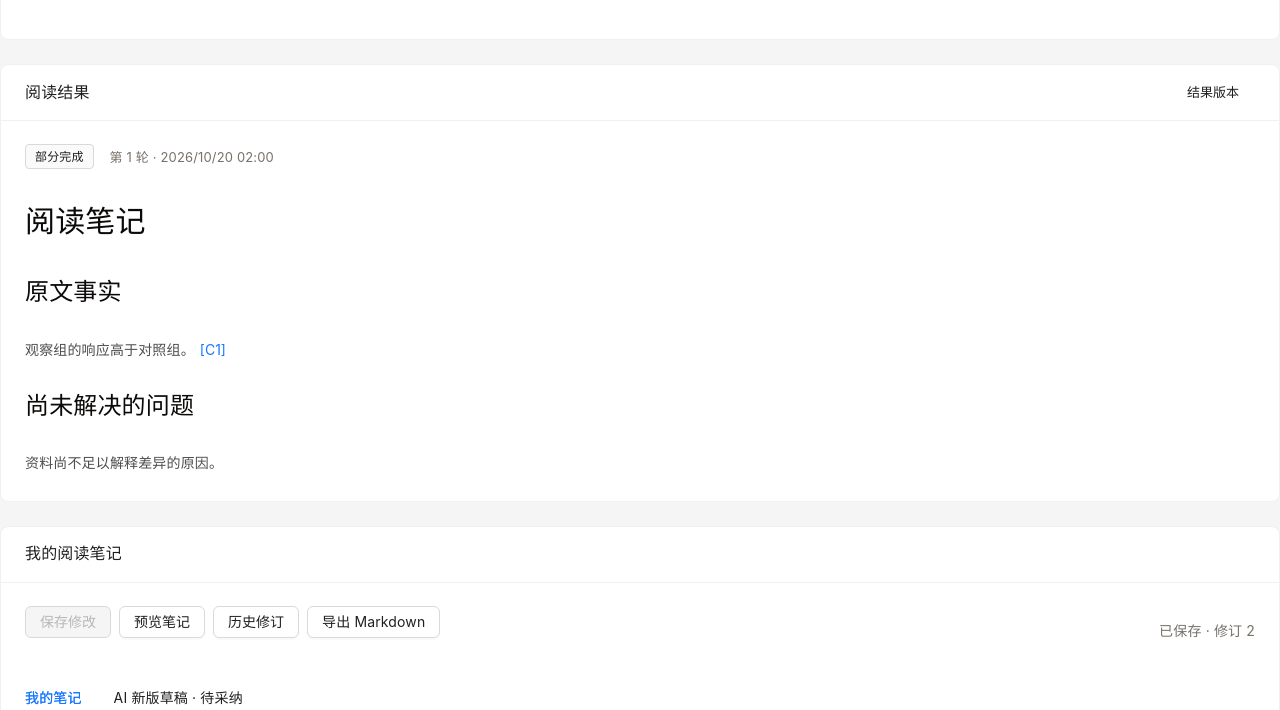
Test: 协同阅读与独立笔记（软件流程夹具） › opens saved original text without fetching the changed live document
(page scrolled)
Click the button "[C1]" at (213, 350), box [195,336,231,365]
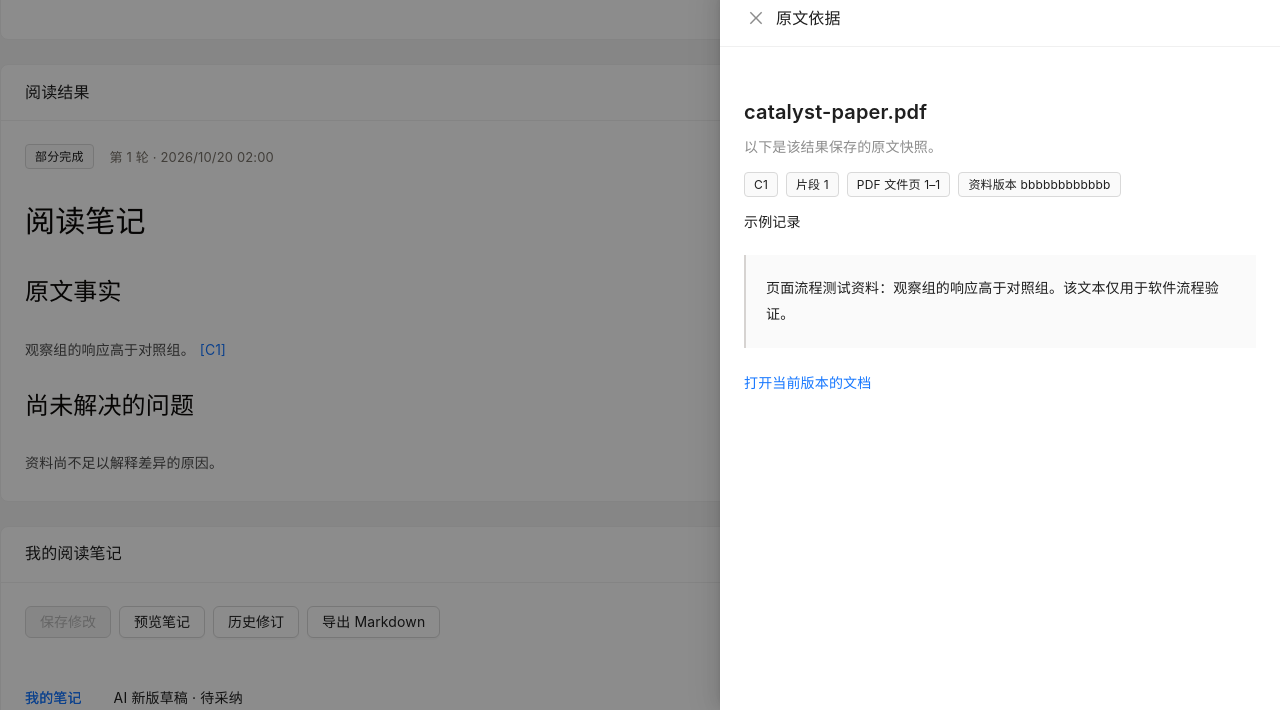
Now the text "页面流程测试资料：观察组的响应高于对照组。该文本仅用于软件流程验证。" is shown, box [744,255,1256,348]
